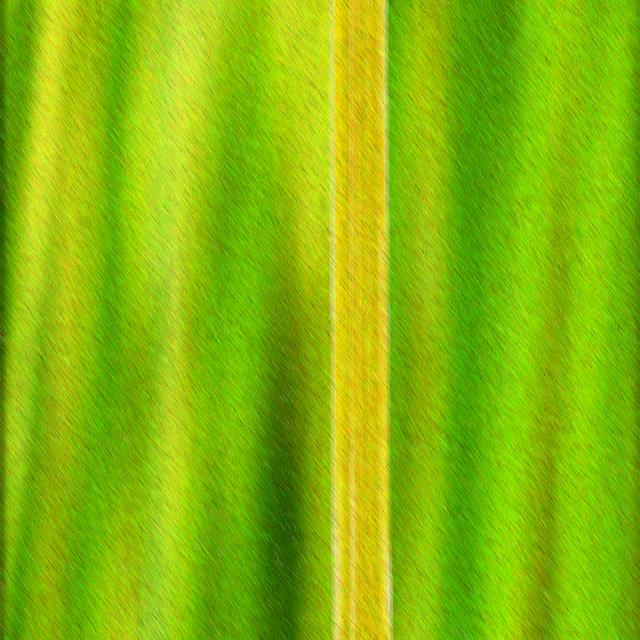BLS: (377, 0, 385, 640), (348, 0, 354, 640), (332, 0, 340, 437), (354, 0, 362, 419), (334, 437, 342, 640), (384, 512, 388, 638)
